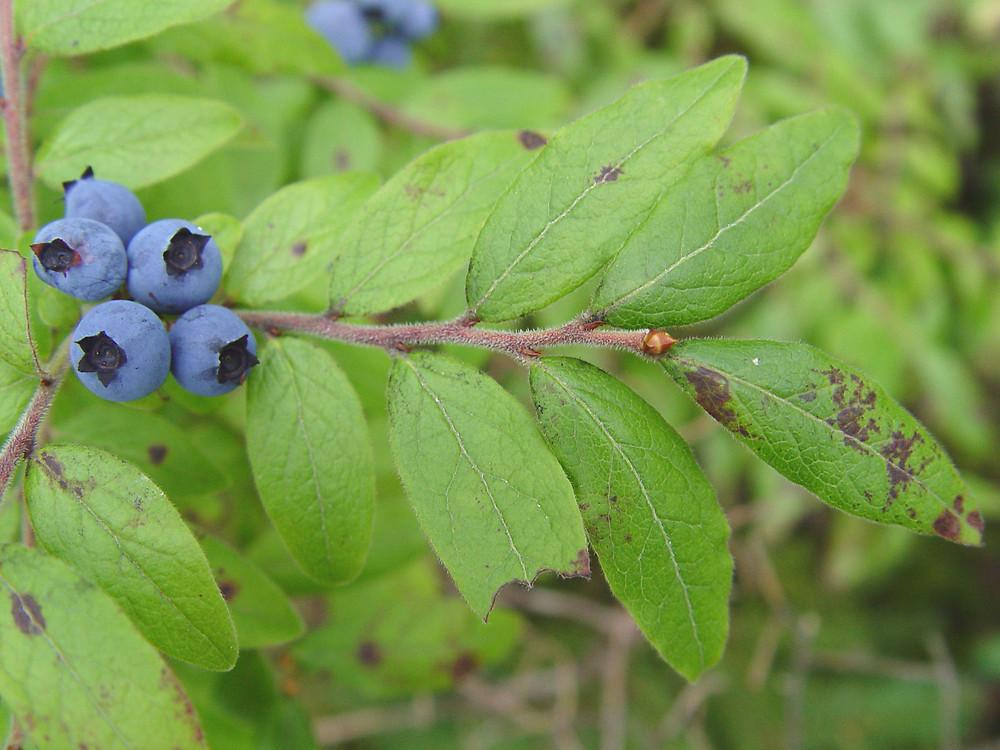Blueberry leaf: (450, 31, 764, 328), (523, 354, 751, 704), (661, 332, 992, 570), (591, 111, 905, 342), (34, 442, 269, 750), (371, 344, 592, 639), (321, 128, 564, 318), (236, 334, 378, 611)
